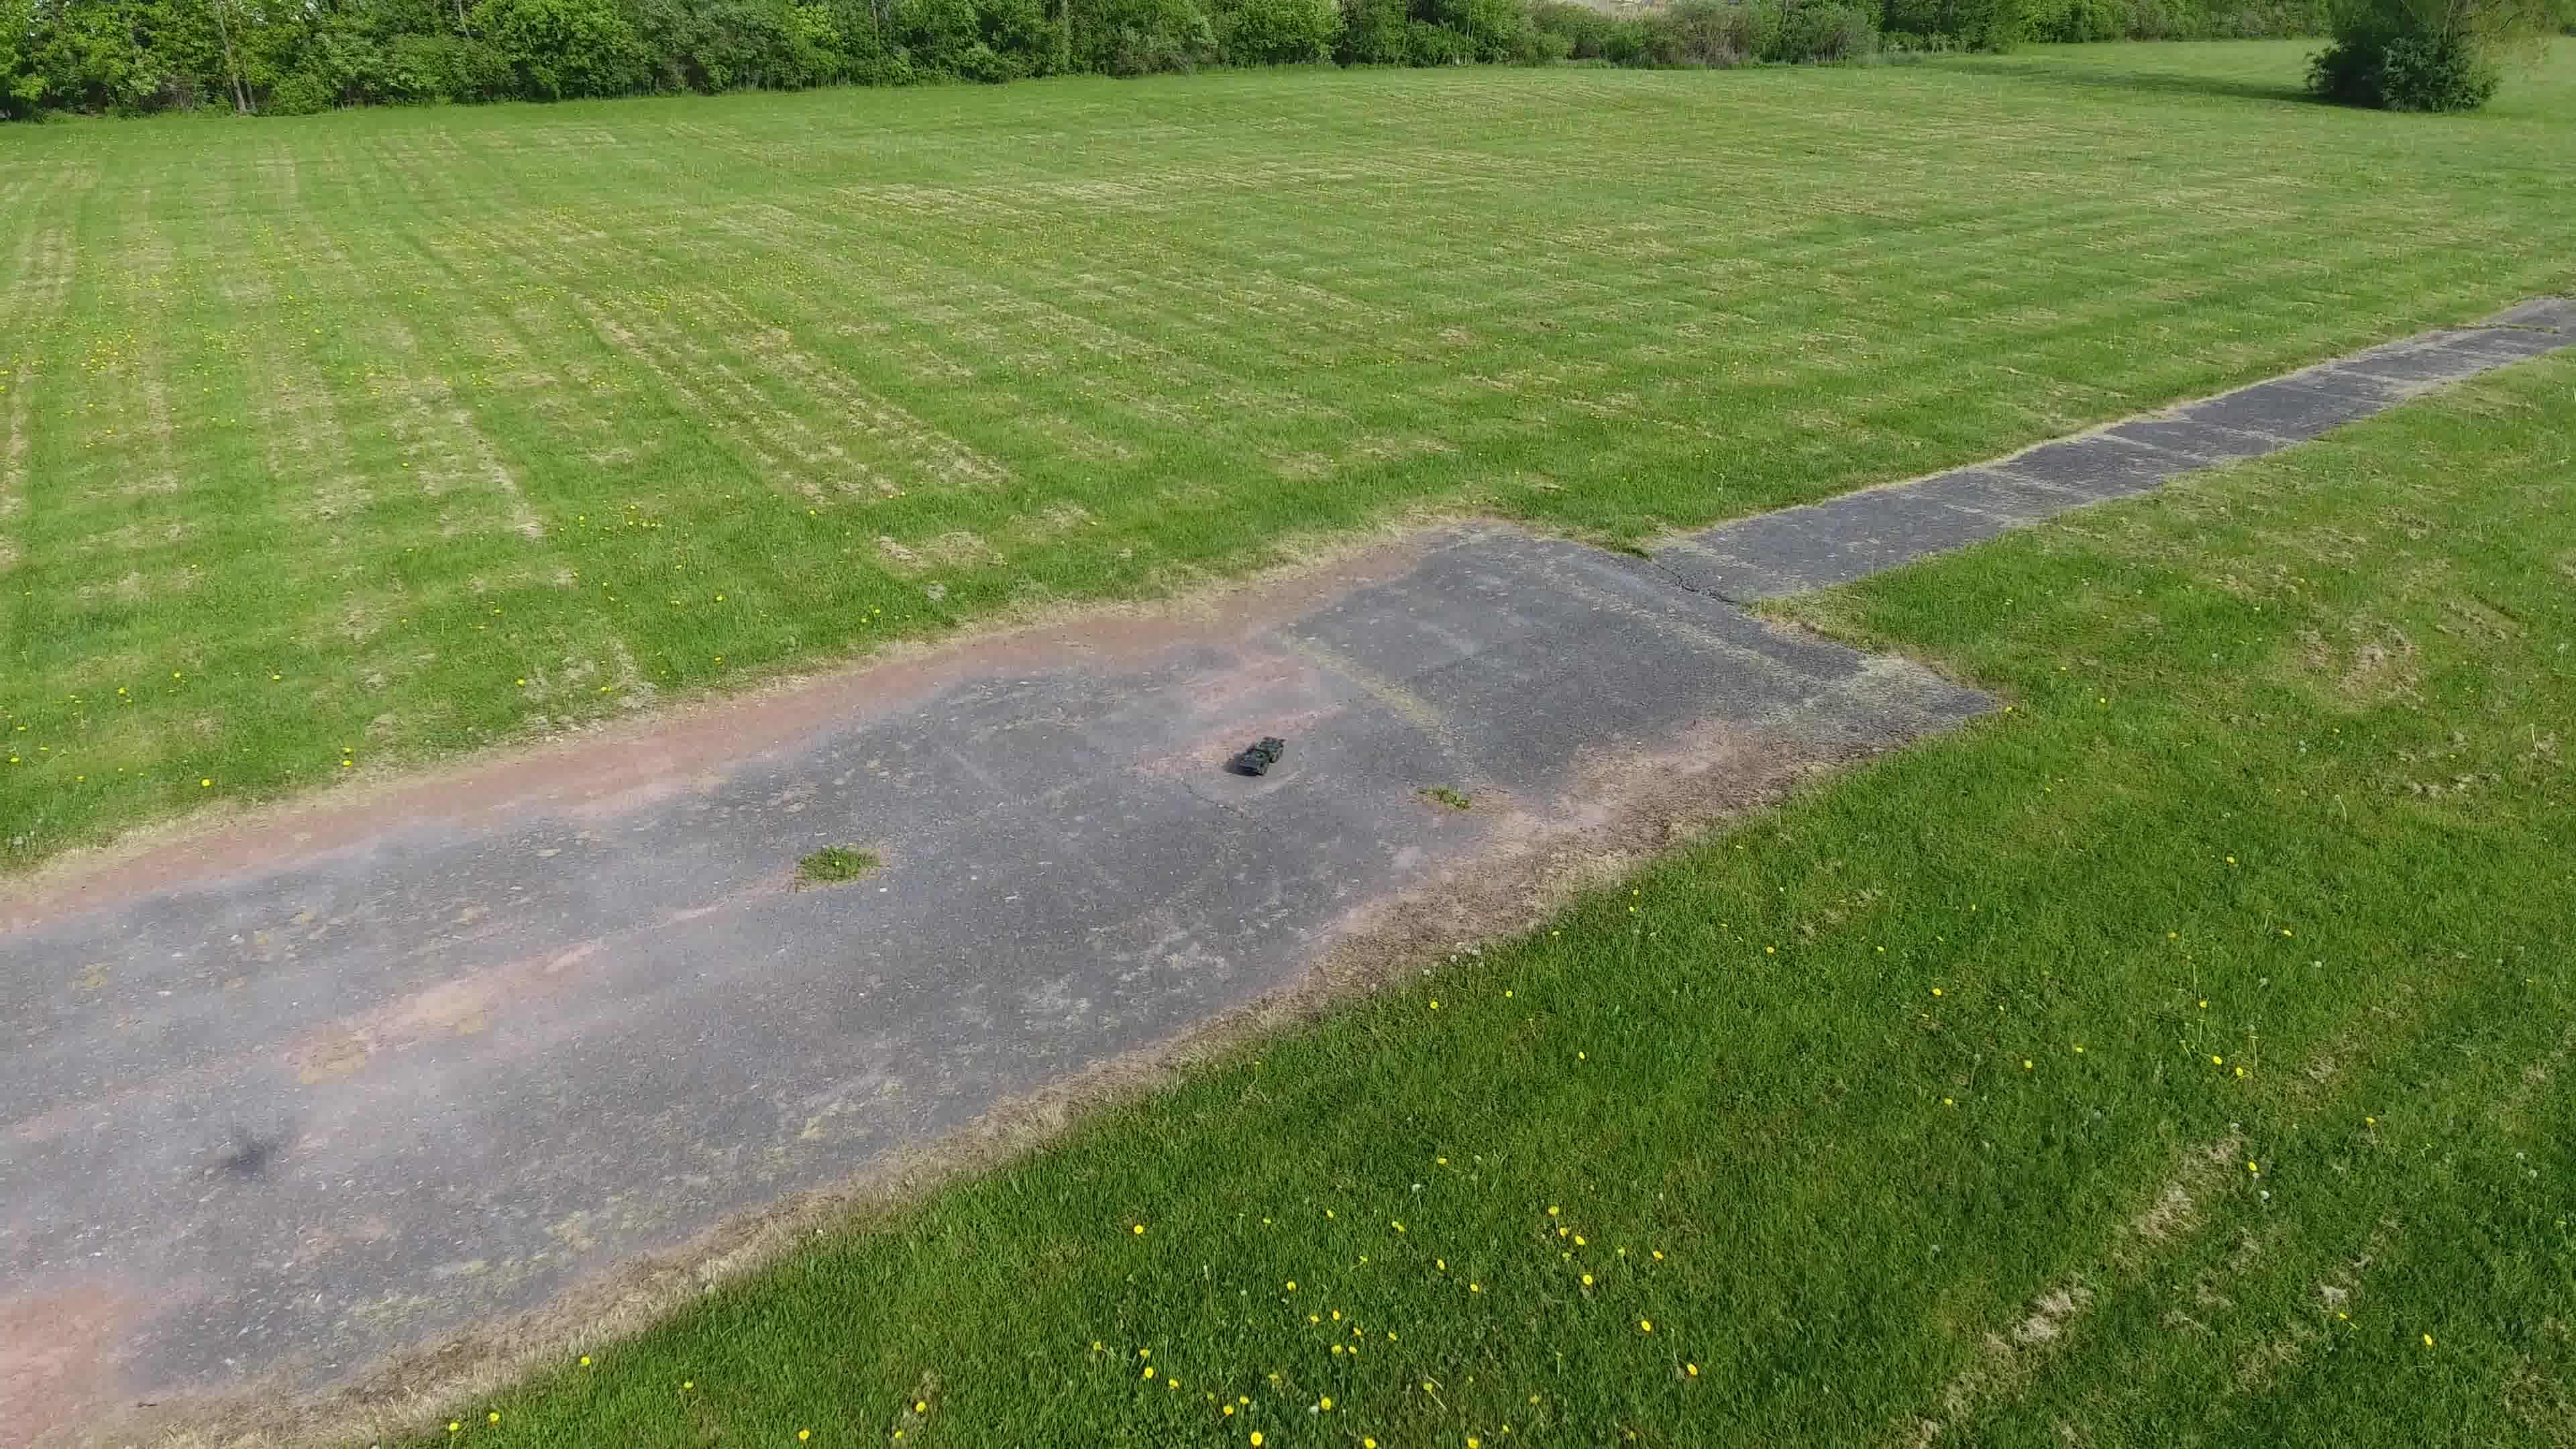transporter9_camo: (1233, 736, 1288, 777)
